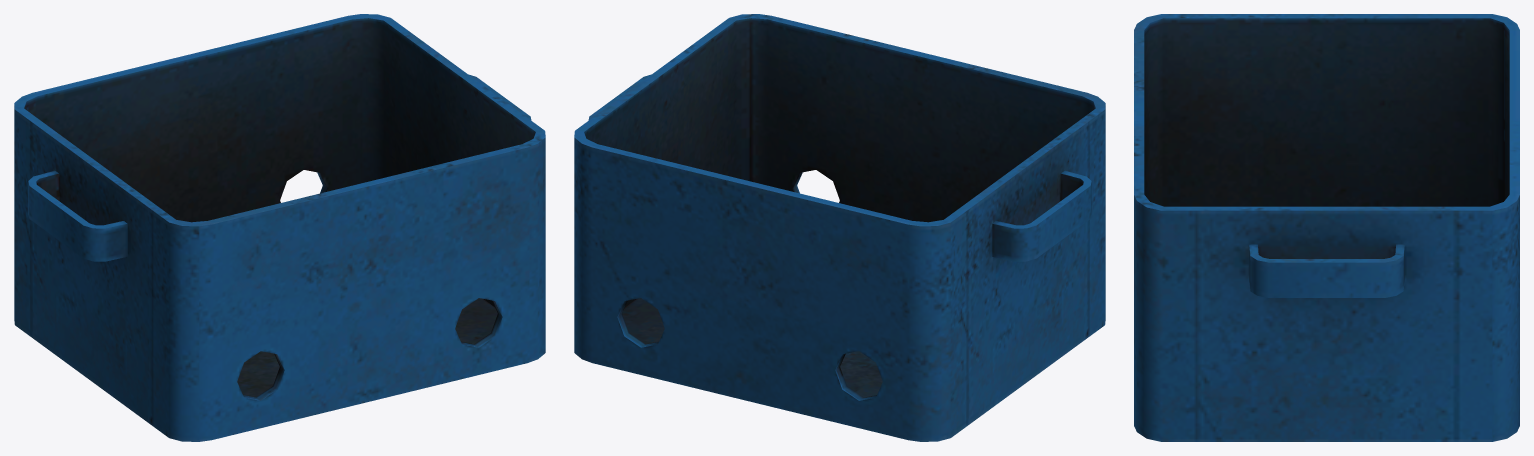
The model's file is box_clothing_open.dae.
3 views of the same model, side by side, from view 1: azimuth 30°, elevation 25°; view 2: azimuth 150°, elevation 25°; view 3: azimuth 270°, elevation 25° (orthographic). The views are drawn at different scales.
Parts seen in each view (by area): view 1: cube; view 2: cube; view 3: cube.
Part boxes in pixels (left/top/right/bottom): cube: left=14, top=14, right=545, bottom=441; cube: left=574, top=14, right=1105, bottom=441; cube: left=1134, top=14, right=1519, bottom=441.
Size of the model in its own units: 39.95 by 18.41 by 27.84.
